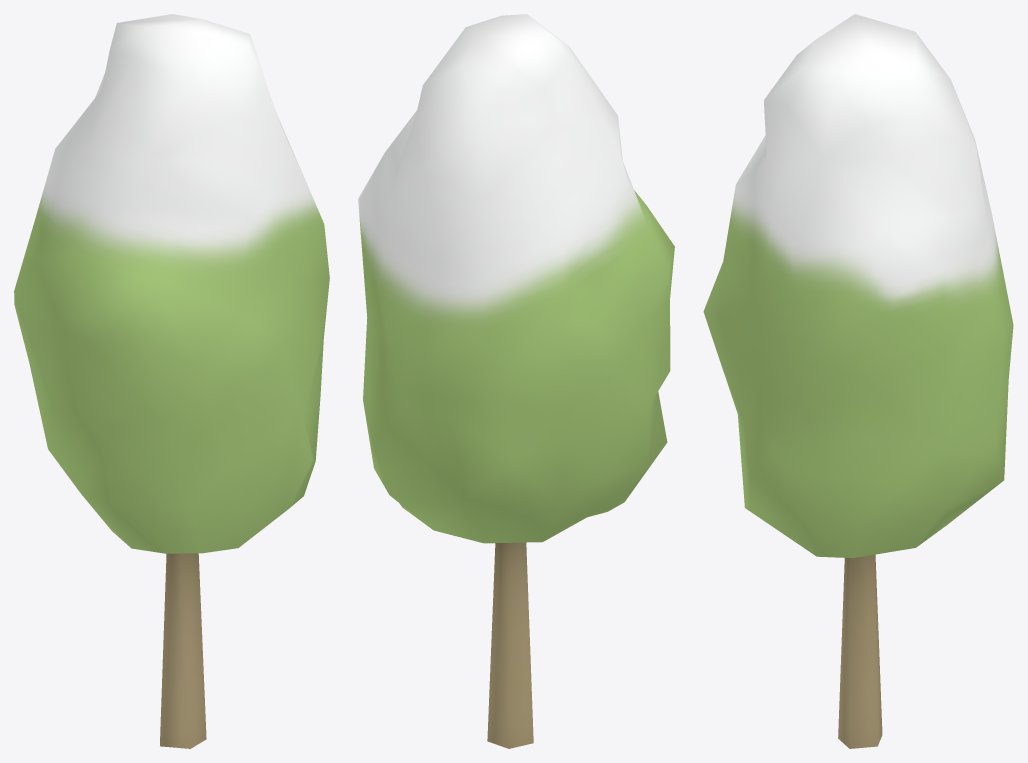
3 renders of one model, left to right at view 1: azimuth 30°, elevation 25°; view 2: azimuth 150°, elevation 25°; view 3: azimuth 270°, elevation 25°, orthographic. The views are drawn at different scales.
Parts seen in each view (by area): view 1: wTree.006; view 2: wTree.006; view 3: wTree.006.
Part boxes in pixels (bbox=[...]): wTree.006: bbox=[14, 14, 329, 748]; wTree.006: bbox=[358, 14, 674, 748]; wTree.006: bbox=[703, 14, 1013, 748].
Size of the model in its own units: 7.58 by 19.39 by 7.7.
1 material, 1 textured.
